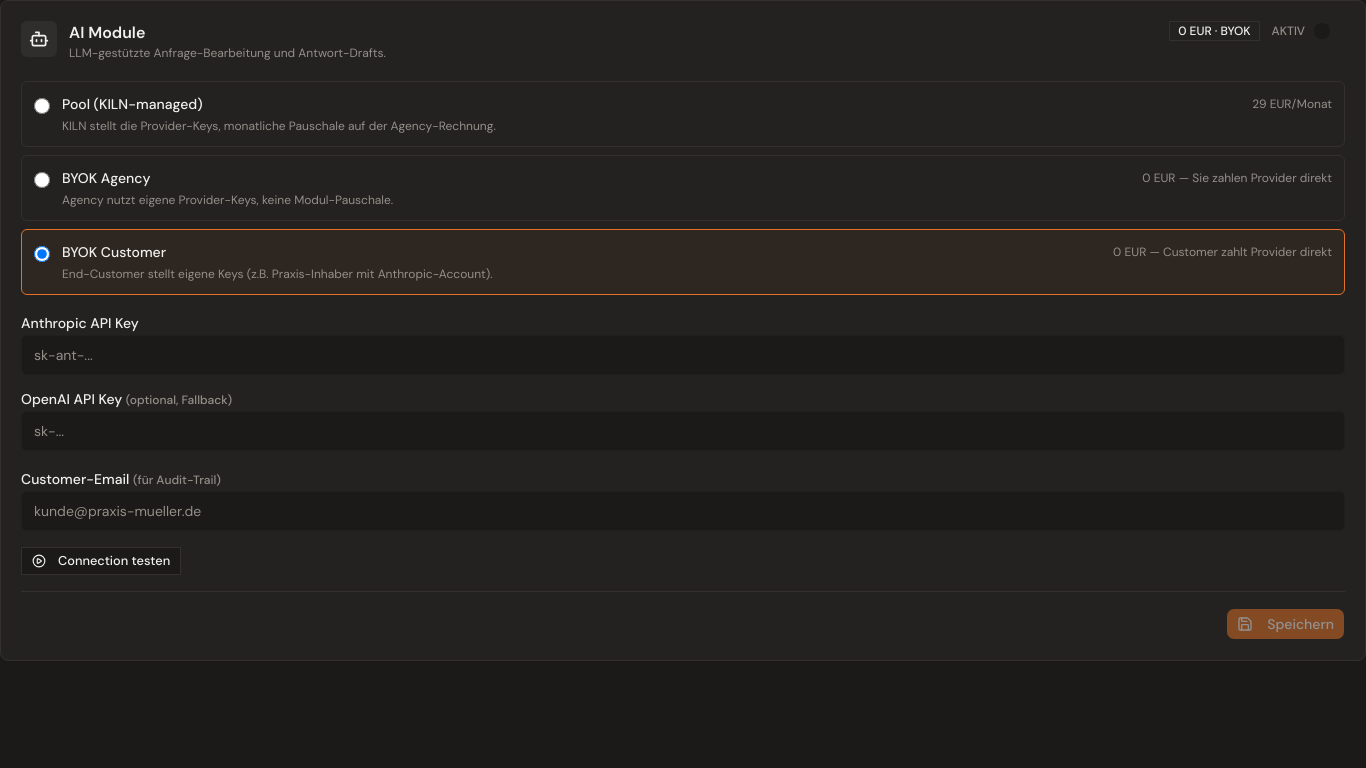
Test: ModuleCard validation on save › requires a customer email when mode is byok_customer
Type "sk-ant-test" into the password field labelled "Anthropic API Key" at (683, 355), box [21,335,1345,375]
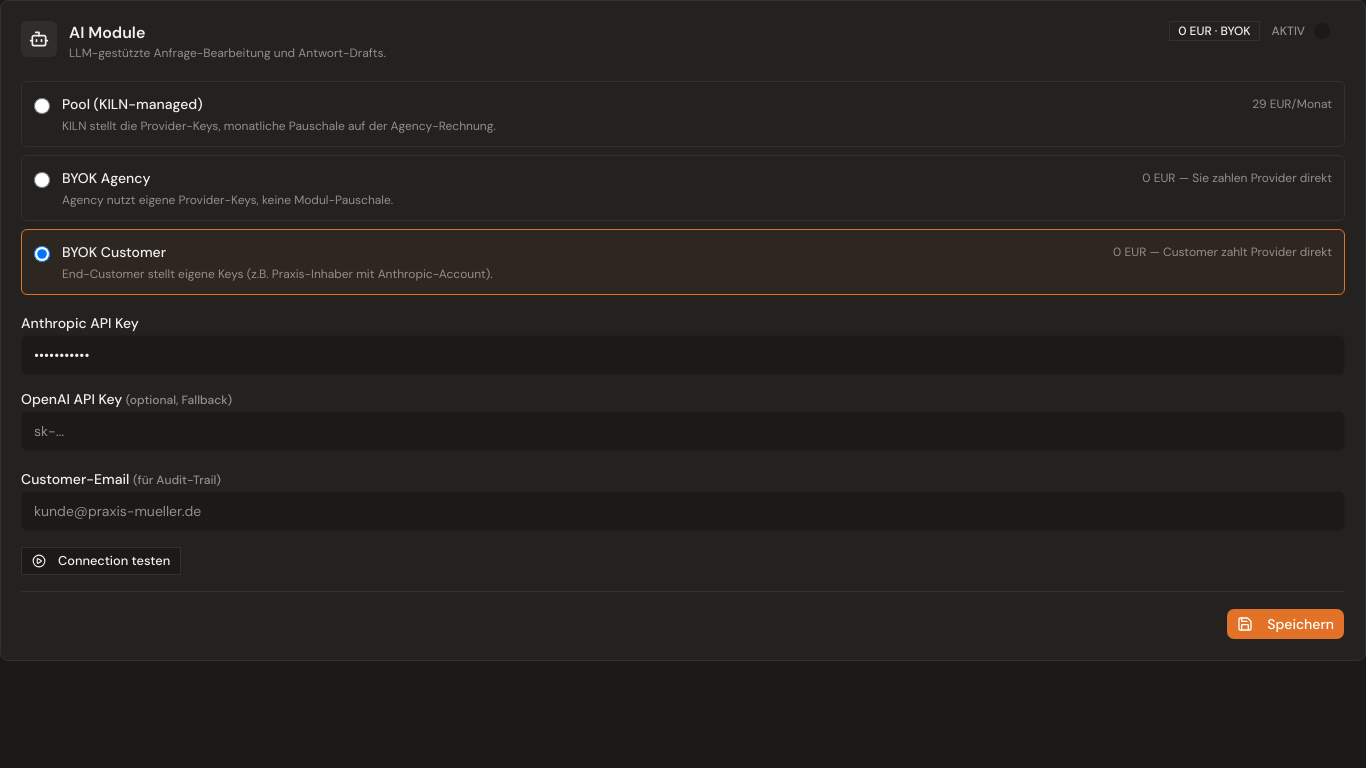
Click the button "Speichern" at (1286, 624), box [1226,608,1345,640]
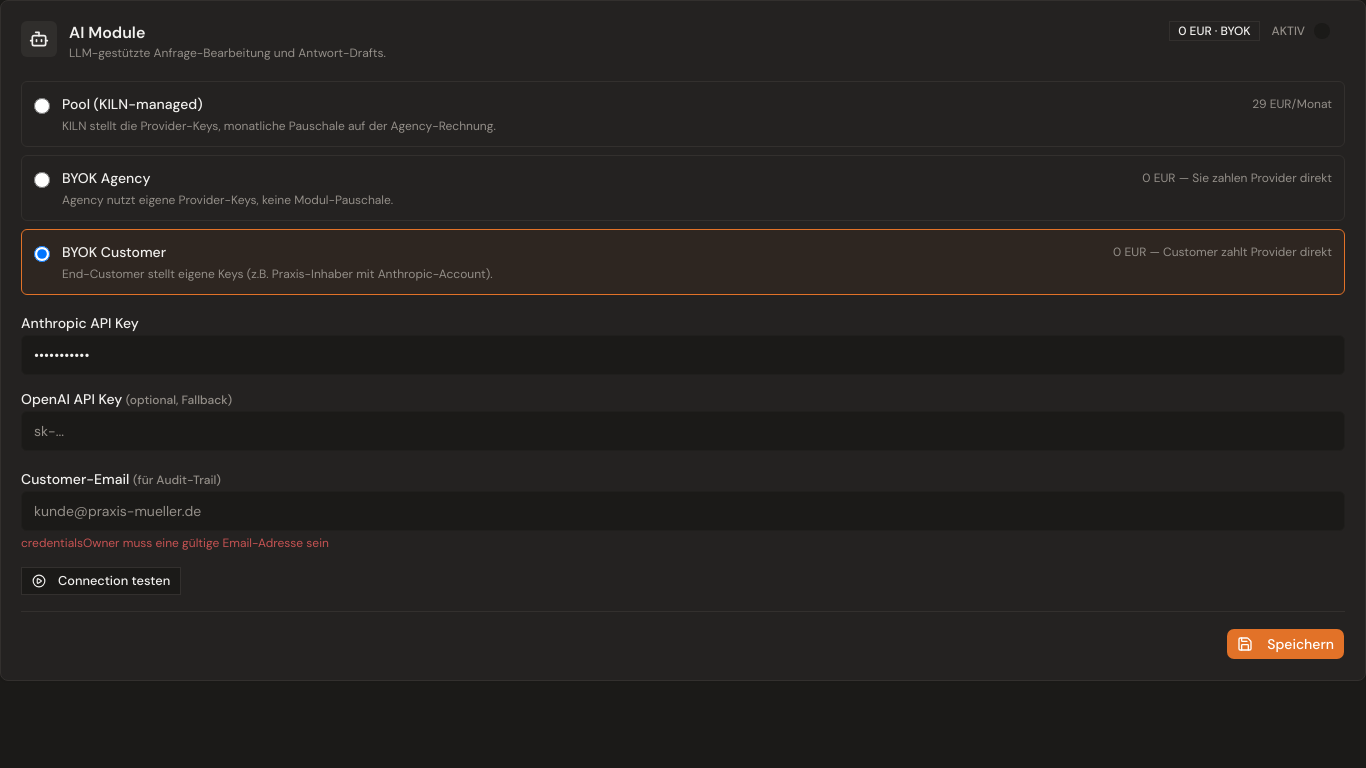
Check: the text "credentialsOwner muss eine gültige Email-Adresse sein" is shown, box [21,535,329,551]
